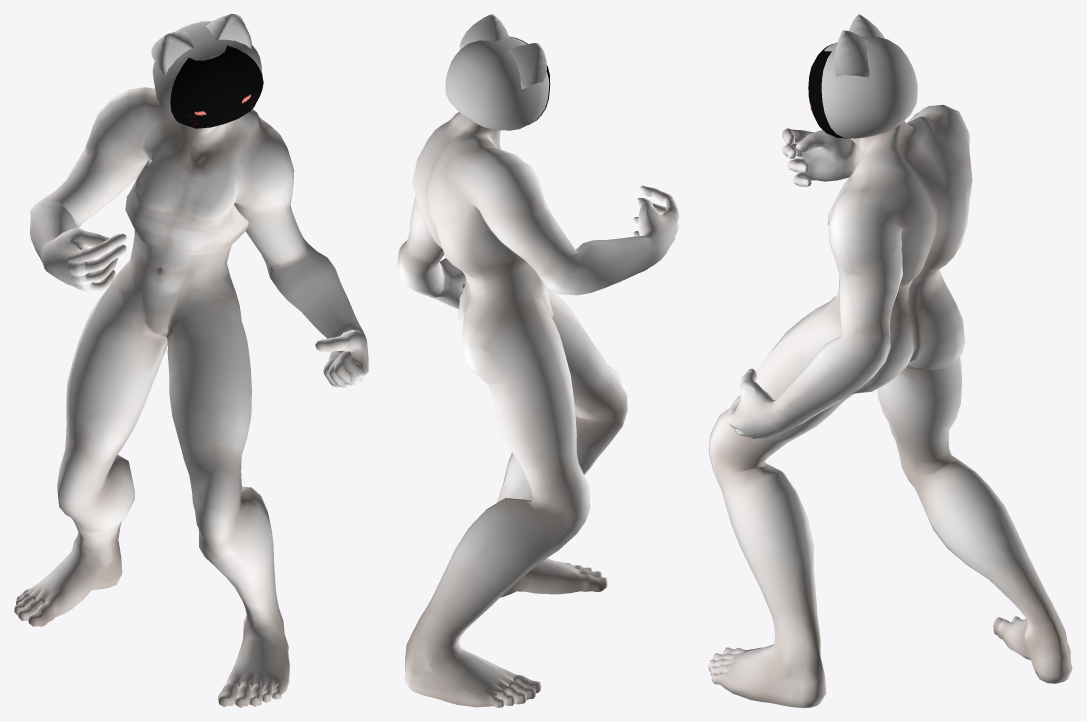
The picture shows the model from 3 angles, left to right: view 1: azimuth 30°, elevation 25°; view 2: azimuth 150°, elevation 25°; view 3: azimuth 270°, elevation 25°; orthographic projection. The views are drawn at different scales.
Visible parts, largest first — view 1: Muscle_Body, ______?001, Cat_Head; view 2: Muscle_Body, Cat_Head; view 3: Muscle_Body, Cat_Head, ______?001.
Part boxes in pixels (x1,y1,x2,y2): Muscle_Body: [14, 87, 368, 707]; ______?001: [170, 45, 263, 128]; Cat_Head: [151, 14, 262, 119]; Muscle_Body: [397, 112, 679, 707]; Cat_Head: [445, 14, 549, 130]; Muscle_Body: [708, 104, 1072, 707]; Cat_Head: [821, 14, 917, 138]; ______?001: [808, 44, 848, 138].
Size of the model in its own units: 12.26 by 26.32 by 13.06.
